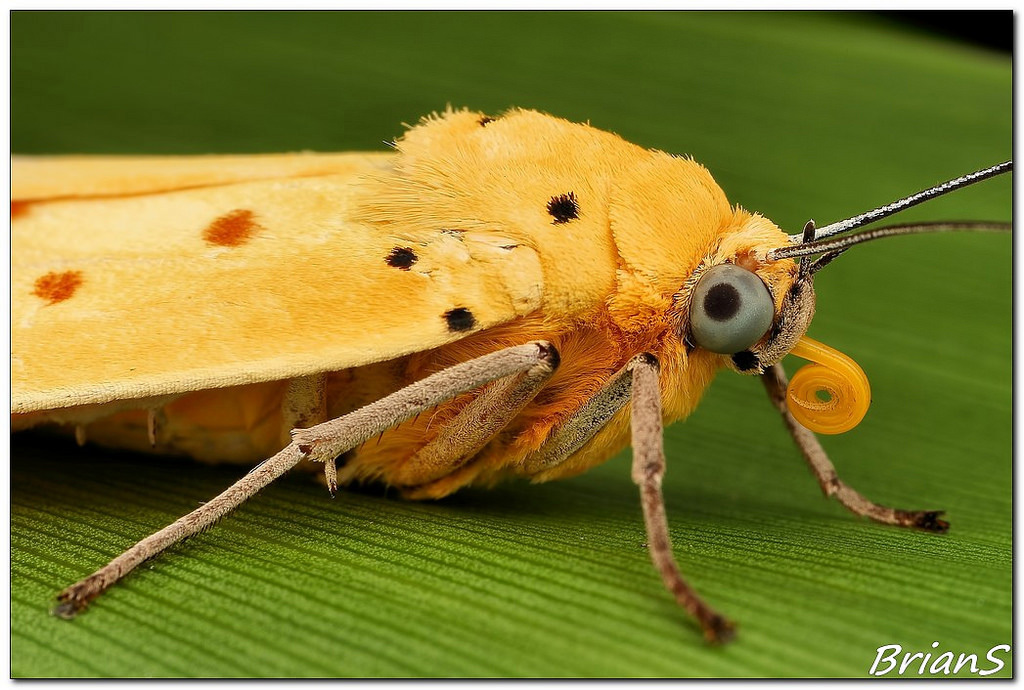Agape chloropyga: (12, 106, 1014, 649)
moth: (14, 108, 1016, 651)
